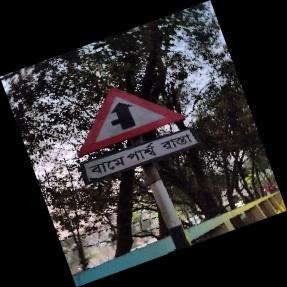Side-road-left: (77, 87, 199, 184)
